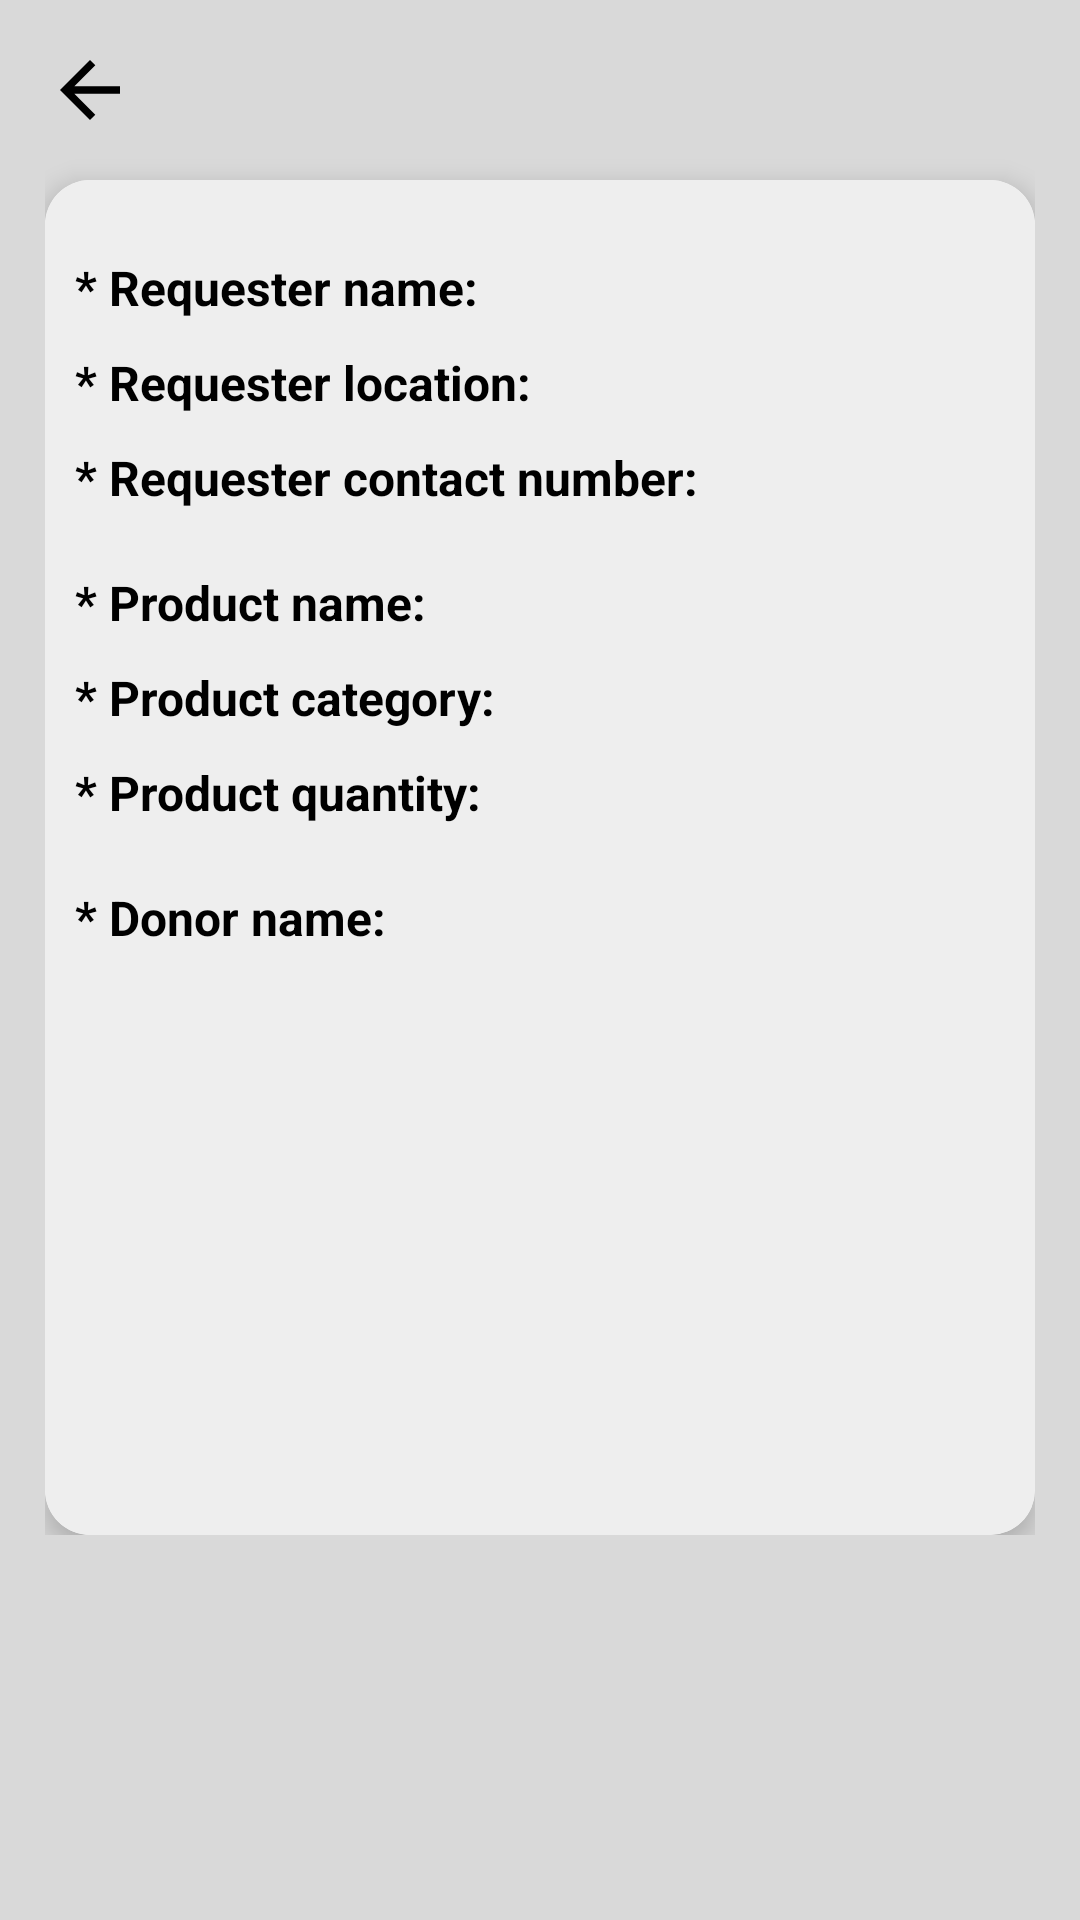

Named icons in this screenshot (1080 × 1920) and their bounding boxes, (x1, y1, x2, y2):
Back arrow description: (60, 60, 120, 120)
